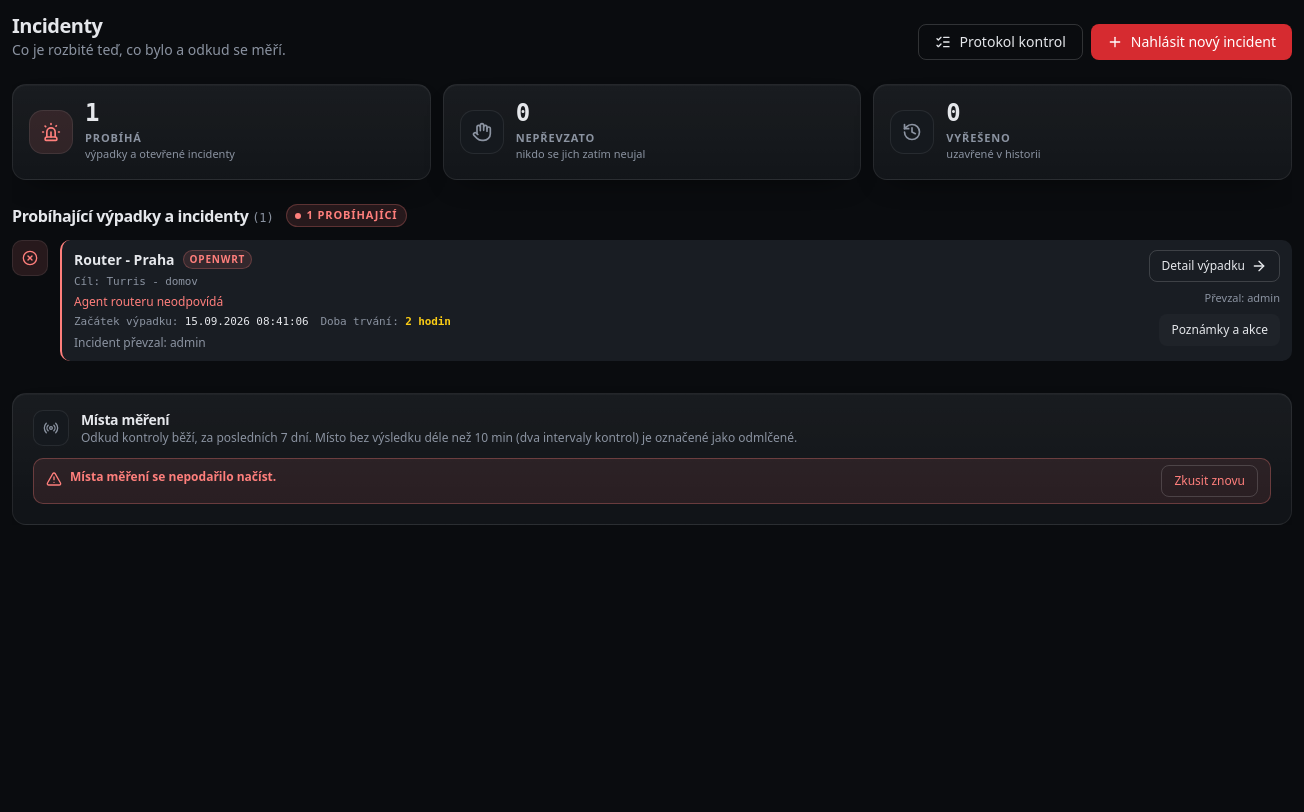
Test: IncidentsPage › shows an outage and its incident as one card, with the notes and actions on it
Expected: the text "1 probíhající" is shown, [286,204,407,227]
Click the button "Poznámky a akce".
click(1220, 330)  # box [1159,314,1280,346]
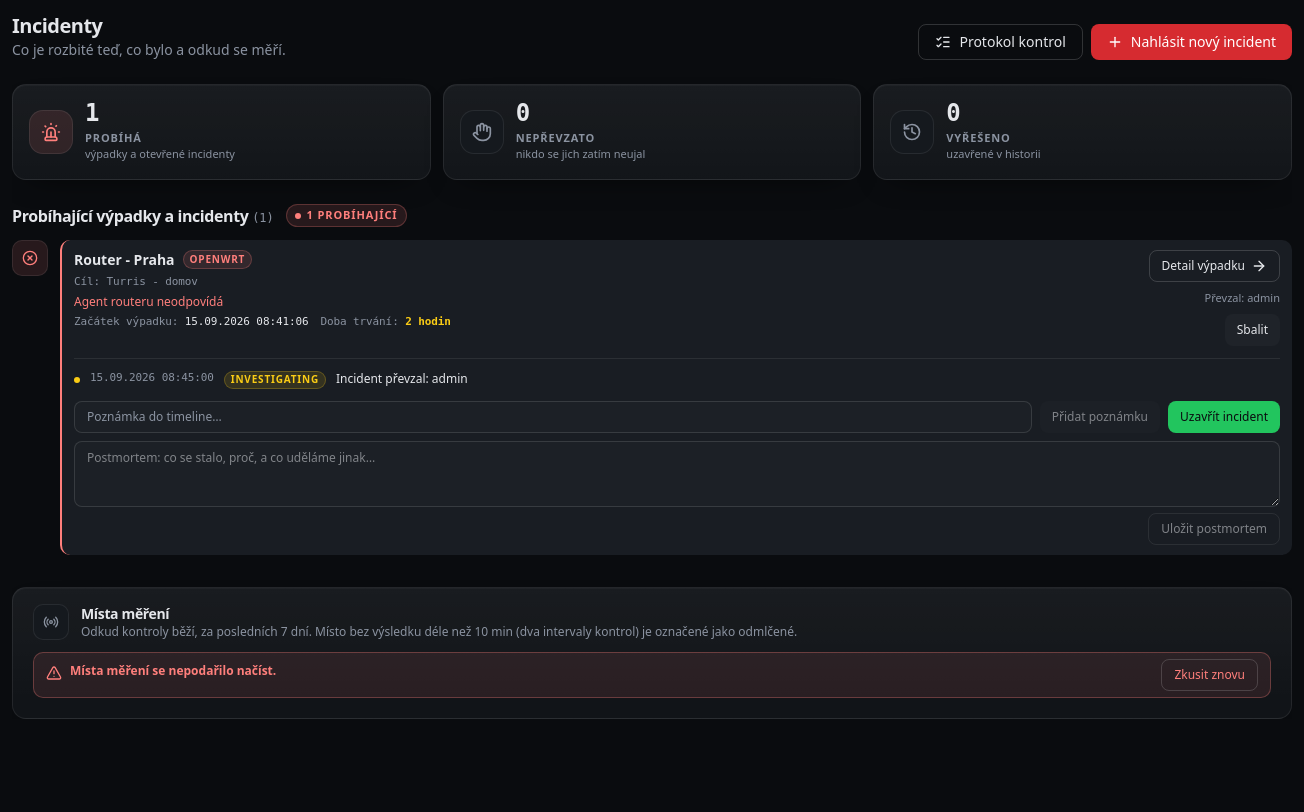
Expected: the text "Incident převzal: admin" is shown, [336,371,468,387]
Now the field with placeholder "Poznámka do timeline…" is shown, box [74,400,1032,432]
Now the button "Uzavřít incident" is shown, box [1168,400,1280,432]
